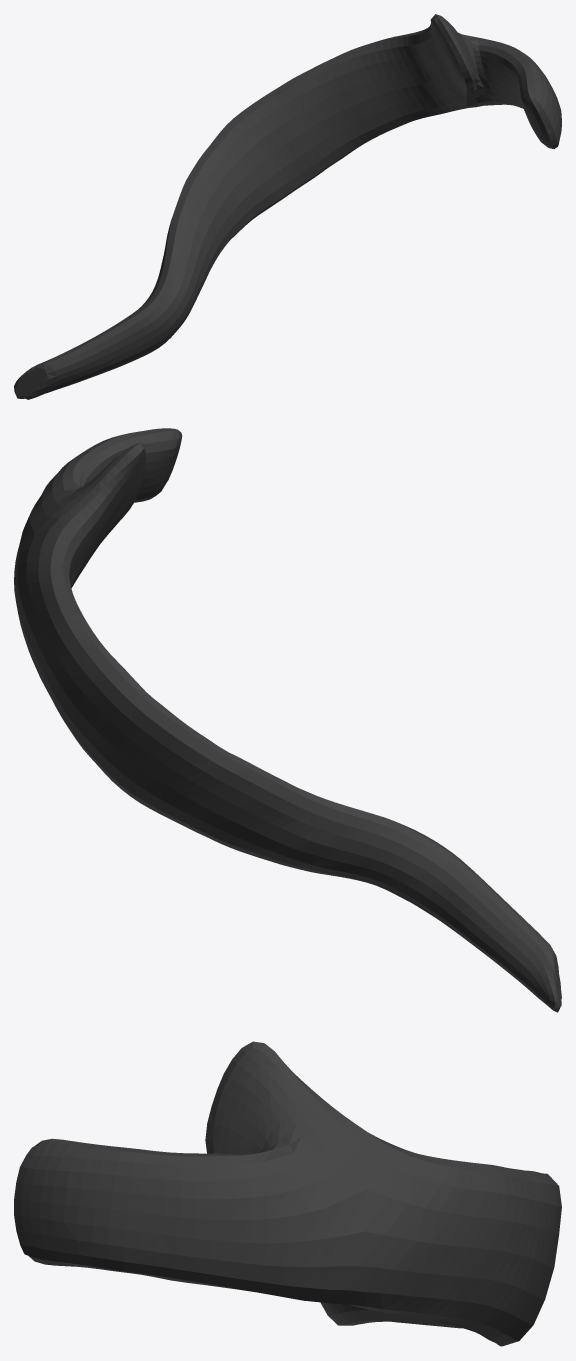
The model's file is Obliq_vent.glb.
3 views of the same model, one above another, from view 1: azimuth 30°, elevation 25°; view 2: azimuth 150°, elevation 25°; view 3: azimuth 270°, elevation 25° (orthographic). The views are drawn at different scales.
Parts seen in each view (by area): view 1: Obliq_vent; view 2: Obliq_vent; view 3: Obliq_vent.
Part boxes in pixels (left/top/right/bottom): Obliq_vent: left=14, top=14, right=561, bottom=399; Obliq_vent: left=14, top=428, right=561, bottom=1012; Obliq_vent: left=14, top=1041, right=561, bottom=1346.
Bounding box in the file's own units: 0.0192 × 0.0128 × 0.0113.
Materials: 1 (1 with a texture image).
